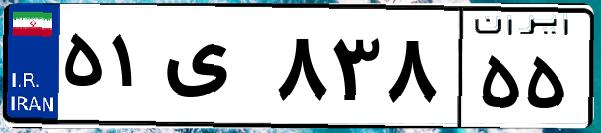1: (110, 28, 158, 98)
3: (330, 28, 385, 110)
5: (57, 26, 110, 100), (475, 38, 525, 113), (525, 38, 570, 115)
8: (270, 28, 330, 110), (385, 28, 445, 110)
ی: (158, 20, 270, 120)
